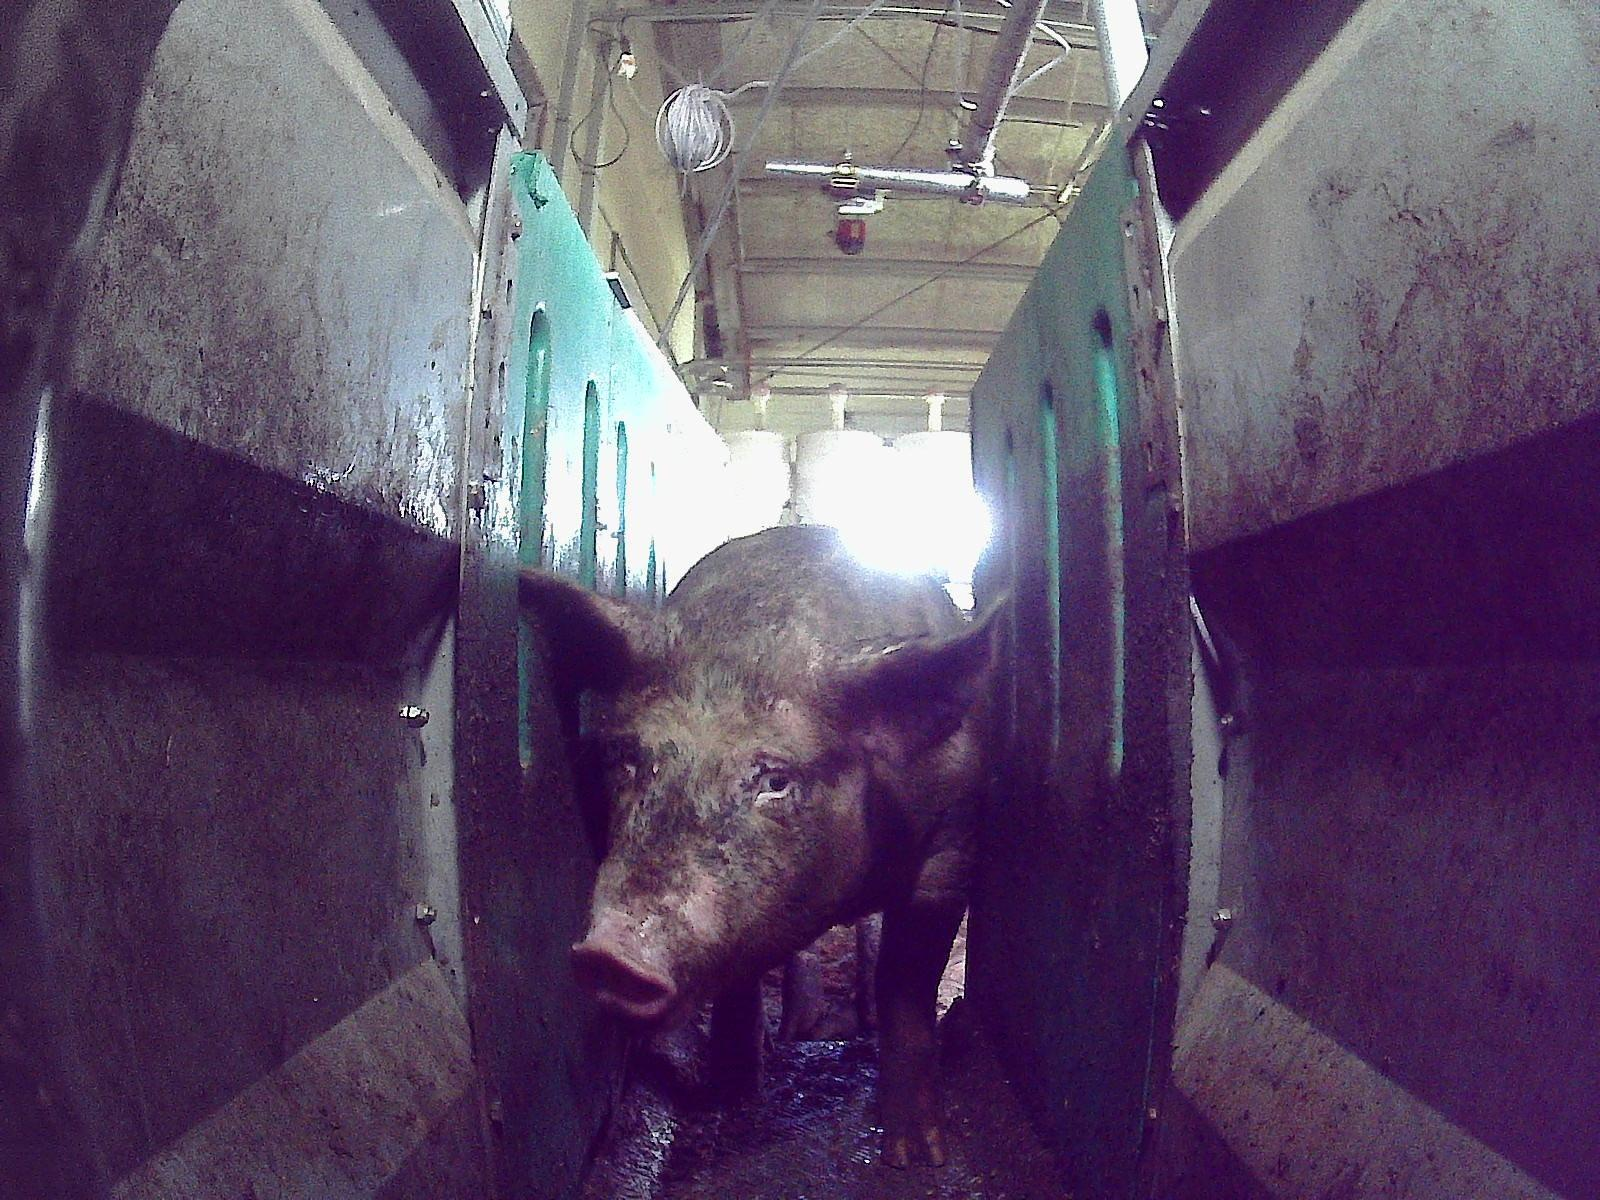Face: (567, 653, 864, 1018)
